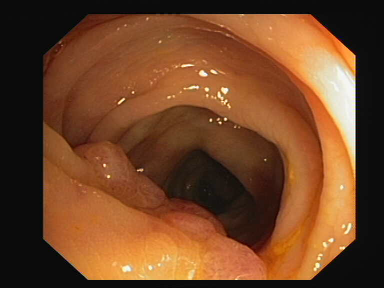polyp: (70, 124, 130, 194), (150, 207, 222, 239)
